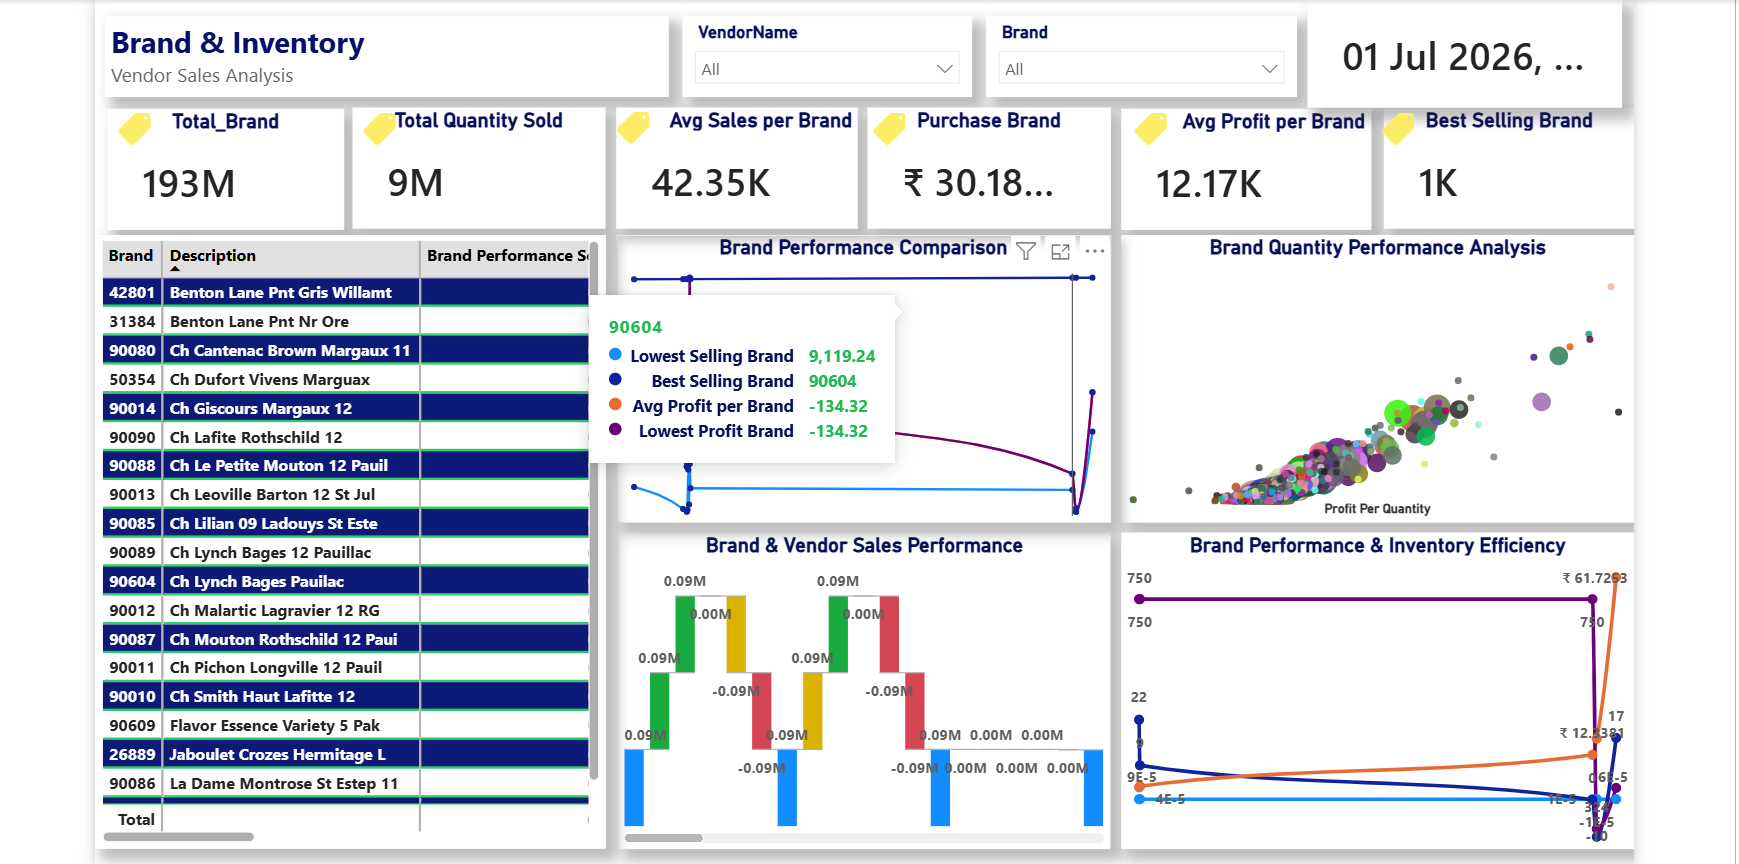

The dashboard page shown, as its layout file describes it:
{"tool":"powerbi","page":{"name":"Brand & Inventory","canvas":[1280,720],"ordinal":2},"visuals":[{"type":"textbox","box":[8.1,14,468.6,67.4],"z":0},{"type":"slicer","fields":{"Values":["LowTurnoverVendor.VendorName"]},"box":[488.4,14,240.7,67.4],"z":1000},{"type":"slicer","fields":{"Values":["vendor_sales_summary.Brand"]},"box":[740.7,14,258.1,67.4],"z":2000},{"type":"cardVisual","title":"Total_Brand","fields":{"Data":["Sum(vendor_sales_summary.Brand)"]},"box":[10,90,196.7,101.1],"z":3000},{"type":"cardVisual","title":"Total Quantity Sold","fields":{"Data":["Sum(vendor_sales_summary.Volume)"]},"box":[214.4,88.9,210,101.1],"z":4000},{"type":"cardVisual","title":"Avg Sales per Brand","fields":{"Data":["vendor_sales_summary.Avg Sales per Brand"]},"box":[433.3,88.9,201.1,101.1],"z":5000},{"type":"cardVisual","title":" Purchase Brand","fields":{"Data":["vendor_sales_summary.Avg Purchase per Brand"]},"box":[642.2,88.9,202.2,101.1],"z":6000},{"type":"cardVisual","title":"Avg Profit per Brand","fields":{"Data":["vendor_sales_summary.Avg Profit per Brand"]},"box":[853.3,90,207.8,101.1],"z":7000},{"type":"cardVisual","title":"Best Selling Brand","fields":{"Data":["vendor_sales_summary.Best Selling Brand"]},"box":[1071.1,88.9,208.9,101.1],"z":8000},{"type":"scatterChart","title":"Brand Quantity Performance Analysis","fields":{"Category":["vendor_sales_summary.Brand"],"X":["vendor_sales_summary.Profit Per Quantity"],"Y":["vendor_sales_summary.Sales Per Quantity"],"Size":["vendor_sales_summary.Total Quantity Sold"]},"box":[853.3,195.6,426.7,238.9],"z":9000},{"type":"waterfallChart","title":"Brand & Vendor Sales Performance","fields":{"Y":["vendor_sales_summary.Best Selling Brand"],"Category":["vendor_sales_summary.Brand"],"Breakdown":["vendor_sales_summary.VendorName"]},"box":[435.6,442.2,408.9,263.3],"z":10000},{"type":"lineChart","title":"Brand Performance Comparison","fields":{"Category":["vendor_sales_summary.Brand"],"Y":["vendor_sales_summary.Lowest Selling Brand","vendor_sales_summary.Best Selling Brand"],"Y2":["vendor_sales_summary.Avg Profit per Brand","vendor_sales_summary.Lowest Profit Brand"]},"box":[433.3,195.6,411.1,238.9],"z":11000},{"type":"tableEx","fields":{"Values":["vendor_sales_summary.Brand","vendor_sales_summary.Description","vendor_sales_summary.Brand Performance Score","vendor_sales_summary.Inventory Turnover Ratio","vendor_sales_summary.Inventory Value","vendor_sales_summary.Total Quantity Sold","vendor_sales_summary.Brand Rank by Sales","vendor_sales_summary.Vendor Rank by Profit","vendor_sales_summary.Vendor Rank by Sales"]},"box":[0,195.6,424.4,510],"z":12000},{"type":"areaChart","title":"Brand Performance & Inventory Efficiency","fields":{"Category":["vendor_sales_summary.Brand"],"Y":["vendor_sales_summary.Brand Performance Score","vendor_sales_summary.Profit Per Quantity","vendor_sales_summary.Purchase Per Quantity"],"Y2":["Sum(vendor_sales_summary.Volume)"]},"box":[853.3,442.2,426.7,263.3],"z":13000},{"type":"cardVisual","fields":{"Data":["BrandPerformance.Last Refresh"]},"box":[1008.2,0,261.7,89.2],"z":14000},{"type":"image","box":[0,90,65.6,33.3],"z":15000},{"type":"image","box":[203.3,90,65.6,33.3],"z":16000},{"type":"image","box":[414.4,88.9,65.6,33.3],"z":17000},{"type":"image","box":[627.8,90,65.6,33.3],"z":18000},{"type":"image","box":[844.4,90,65.6,33.3],"z":19000},{"type":"image","box":[1051.1,90,65.6,33.3],"z":20000}]}

Visuals, with their boxes on the page's 1280x720 design canvas (x1, y1, x2, y2). These are canvas units, not pixel positions in the 1739x864 screenshot, which may show the page scaled, cropped or inside an application window:
textbox: <bbox>8, 14, 477, 81</bbox>
slicer - LowTurnoverVendor.VendorName: <bbox>488, 14, 729, 81</bbox>
slicer - vendor_sales_summary.Brand: <bbox>741, 14, 999, 81</bbox>
"Total_Brand" cardVisual: <bbox>10, 90, 207, 191</bbox>
"Total Quantity Sold" cardVisual: <bbox>214, 89, 424, 190</bbox>
"Avg Sales per Brand" cardVisual: <bbox>433, 89, 634, 190</bbox>
" Purchase Brand" cardVisual: <bbox>642, 89, 844, 190</bbox>
"Avg Profit per Brand" cardVisual: <bbox>853, 90, 1061, 191</bbox>
"Best Selling Brand" cardVisual: <bbox>1071, 89, 1280, 190</bbox>
"Brand Quantity Performance Analysis" scatterChart: <bbox>853, 196, 1280, 434</bbox>
"Brand & Vendor Sales Performance" waterfallChart: <bbox>436, 442, 844, 706</bbox>
"Brand Performance Comparison" lineChart: <bbox>433, 196, 844, 434</bbox>
tableEx - vendor_sales_summary.Brand x vendor_sales_summary.Description: <bbox>0, 196, 424, 706</bbox>
"Brand Performance & Inventory Efficiency" areaChart: <bbox>853, 442, 1280, 706</bbox>
cardVisual - BrandPerformance.Last Refresh: <bbox>1008, 0, 1270, 89</bbox>
image: <bbox>0, 90, 66, 123</bbox>
image: <bbox>203, 90, 269, 123</bbox>
image: <bbox>414, 89, 480, 122</bbox>
image: <bbox>628, 90, 693, 123</bbox>
image: <bbox>844, 90, 910, 123</bbox>
image: <bbox>1051, 90, 1117, 123</bbox>
